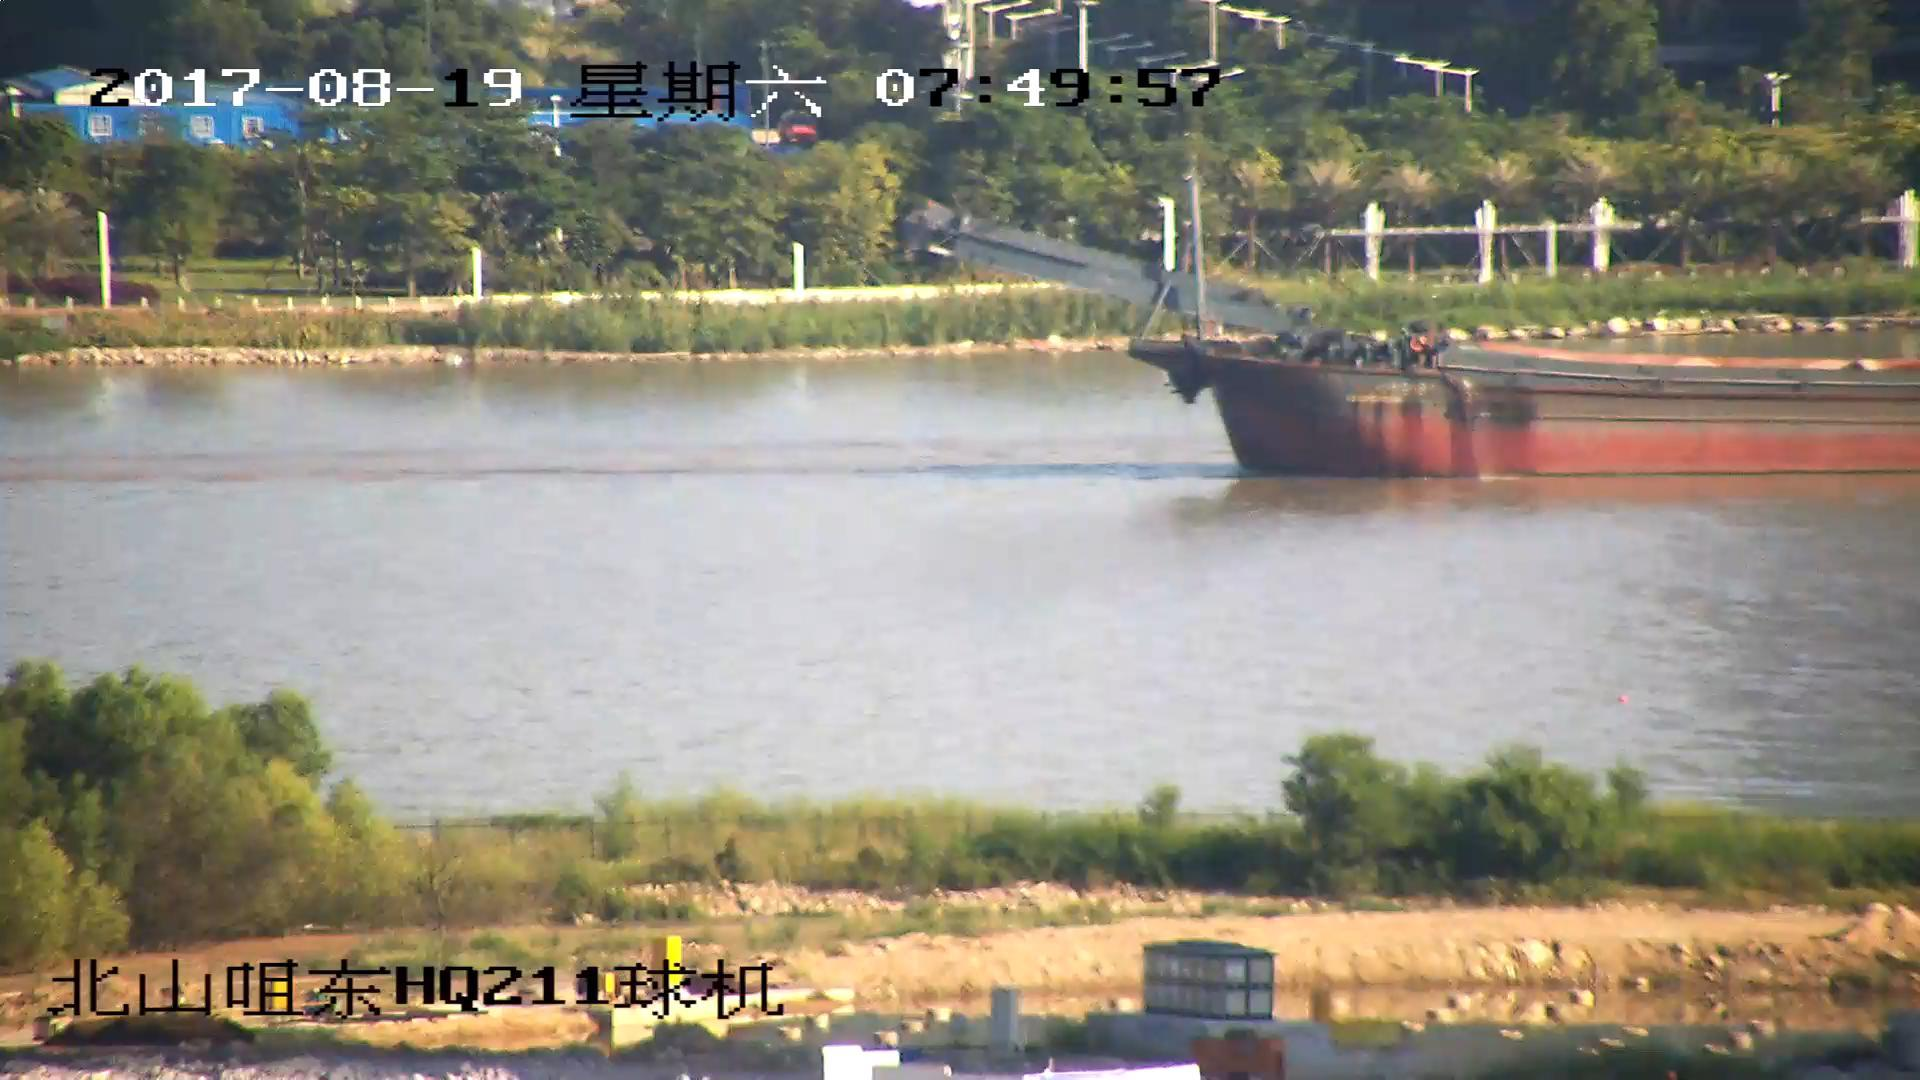Ship: (919, 181, 1920, 483)
